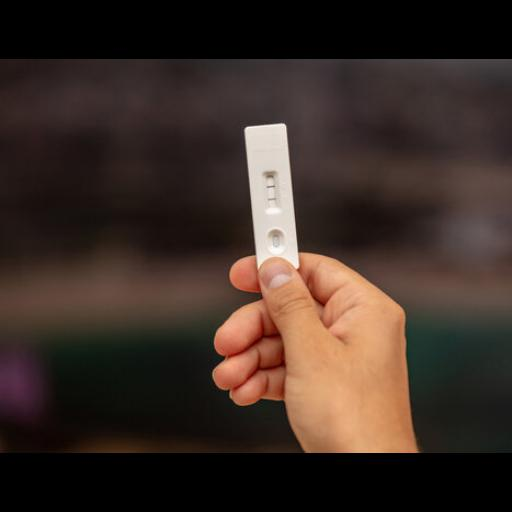Pos: (244, 123, 300, 276)
